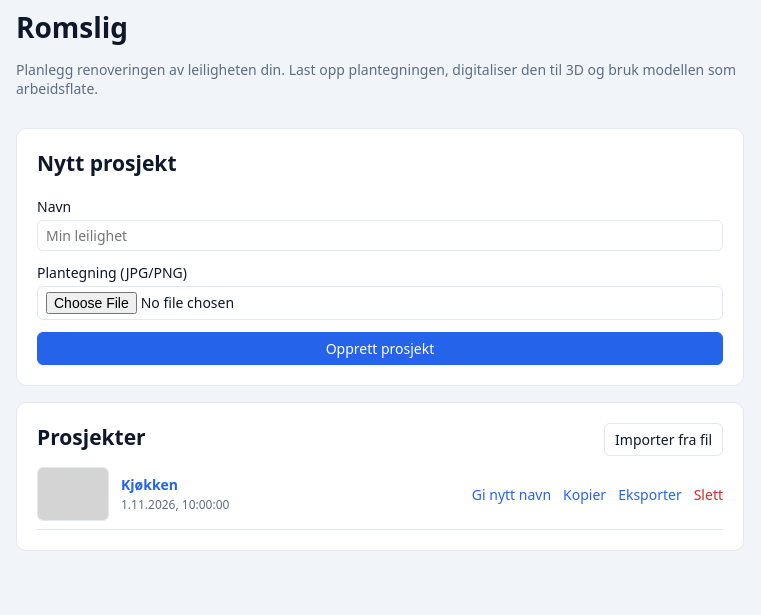
Scenario: ProjectList › keeps the message about a failed action when the list then fails too
Expected: the link "Kjøkken" is shown, [121,475,178,494]
Step 1. Click the button "Eksporter" → (650, 494), box [618,484,682,504]
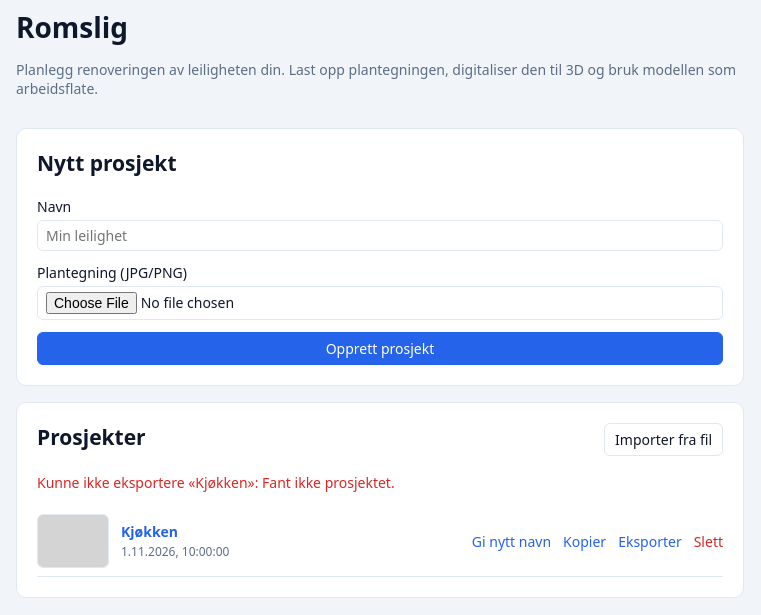
Expected: the message reads "Kunne ikke eksportere «Kjøkken»: Fant ikke prosjektet.", [37,473,395,492]
